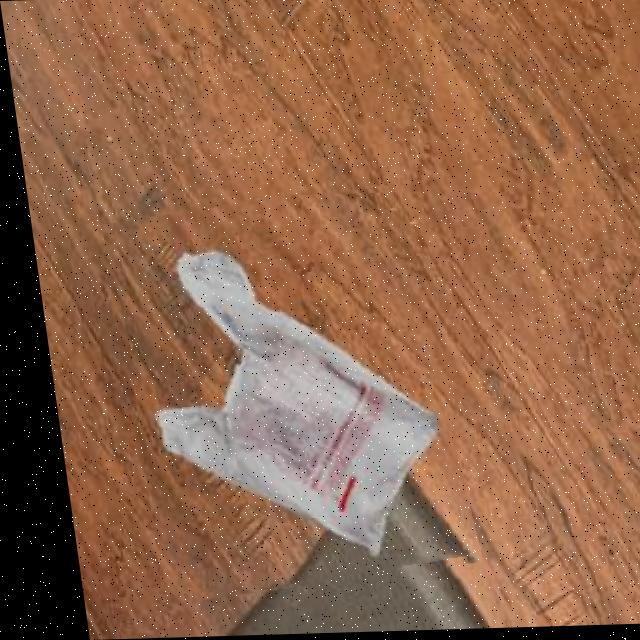litter: (101, 193, 459, 595)
